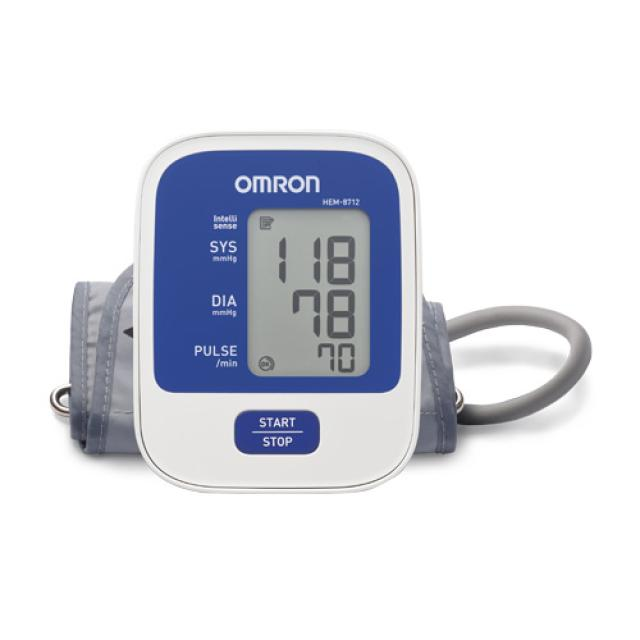dia: (287, 284, 362, 340)
pul: (312, 338, 359, 377)
ssd: (247, 209, 371, 378)
sys: (271, 229, 359, 290)
